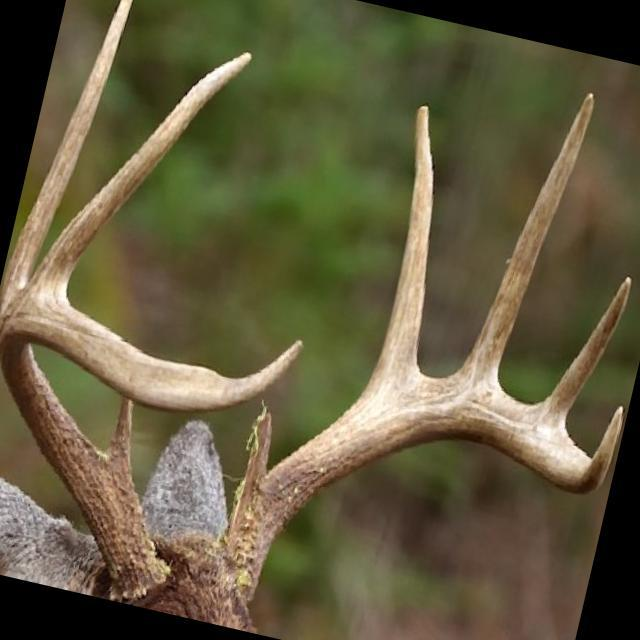L-F: (224, 377, 624, 604)
L-G1: (235, 411, 273, 507)
L-G2: (365, 103, 434, 389)
L-G3: (451, 90, 594, 390)
L-G4: (534, 275, 631, 429)
R-F: (0, 284, 306, 602)
R-G1: (101, 400, 132, 479)
R-G2: (0, 0, 133, 318)
R-G3: (30, 51, 254, 302)
